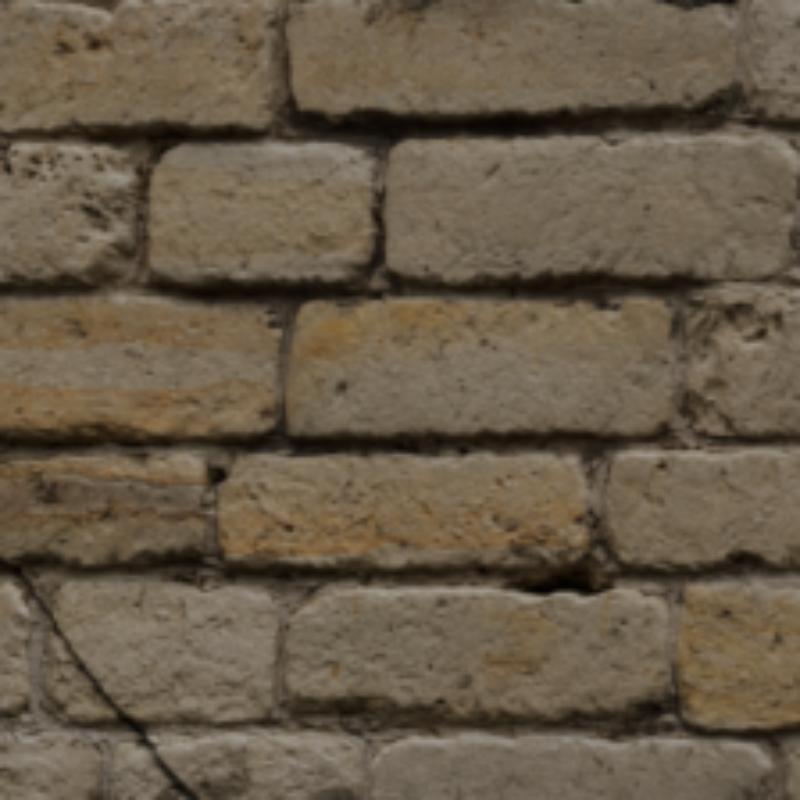crack: (65, 640, 152, 749), (0, 554, 64, 639), (154, 754, 196, 796), (664, 0, 732, 7)
